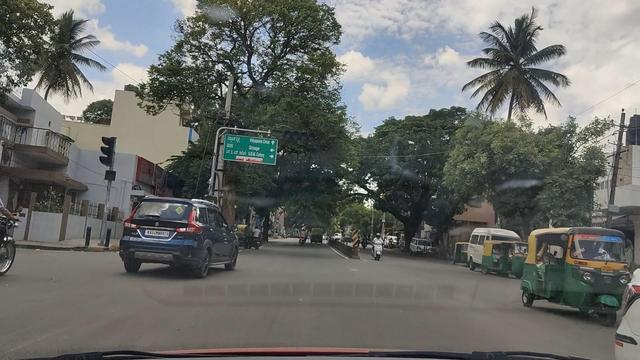LMV: (126, 201, 244, 289)
